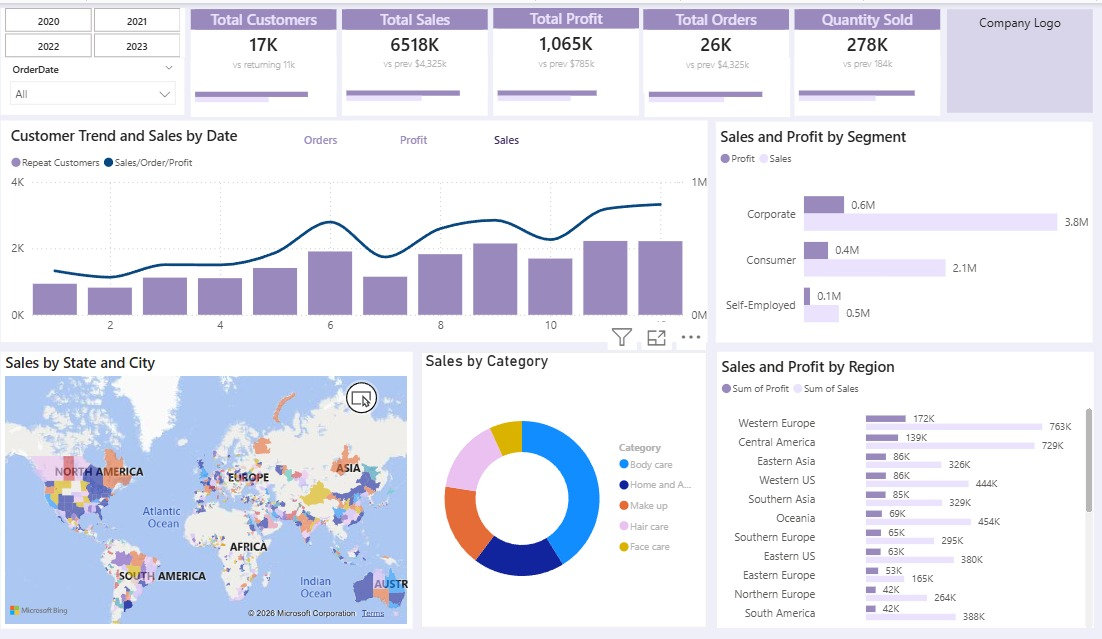

The dashboard page shown, as its layout file describes it:
{"tool":"powerbi","page":{"name":"Customer Mark Analysis","canvas":[1280,720],"ordinal":1},"visuals":[{"type":"lineStackedColumnComboChart","fields":{"Y2":["Measure.Line_Chart_Measures"],"Y":["Trends.Repeat Customers"],"Category":["Date Dim.OrderMonth"]},"box":[69.3,129.5,776.1,243.2],"z":0},{"type":"card","title":"Total Customers","fields":{"Values":["Trends.Total Customers"]},"box":[278.4,6.8,160.2,92],"z":1000},{"type":"advancedSlicerVisual","fields":{"Values":["Date Dim.OrderYear"]},"box":[69.3,5.7,202.3,54.5],"z":2000},{"type":"slicer","fields":{"Values":["Date Dim.OrderDate"]},"box":[69.7,59.9,201.8,62.4],"z":3000},{"type":"clusteredBarChart","fields":{"Y":["Trends.Total Customers","Trends.Repeat Customers"]},"box":[278.4,60.2,160.2,64.8],"z":4000},{"type":"card","title":"Total Orders","fields":{"Values":["Measure.Total Order"]},"box":[775.7,7,160,92],"z":5000},{"type":"clusteredBarChart","fields":{"Y":["Measure.Total Sales","Measure.Total Sales LY"]},"box":[776.1,60.2,160.2,64.8],"z":6000},{"type":"card","title":"Quantity Sold","fields":{"Values":["Measure.Quantity Sold"]},"box":[941.1,7,160,92],"z":7000},{"type":"clusteredBarChart","fields":{"Y":["Measure.Quantity Sold","Measure.Quantity Sold LY"]},"box":[940.9,59.1,160.2,64.8],"z":8000},{"type":"filledMap","title":"Sales by State and City","fields":{"Category":["Geography Dim.State","Geography Dim.City"],"Series":["Sales Fact.Sales"]},"box":[69.3,383,451.1,303.4],"z":9000},{"type":"donutChart","title":"Sales by Category","fields":{"Category":["Product Dim.Category"],"Y":["Sum(Sales Fact.Sales)"]},"box":[530.7,383,314.8,303.4],"z":10000},{"type":"clusteredBarChart","title":"Sales and Profit by Segment","fields":{"Category":["Customer Dim.Segment"],"Y":["Sum(Sales Fact.Profit)","Sum(Sales Fact.Sales)"]},"box":[855.2,130.9,413.6,242],"z":11000},{"type":"clusteredBarChart","title":"Sales and Profit by Region","fields":{"Category":["Geography Dim.Region"],"Y":["Sum(Sales Fact.Profit)","Sum(Sales Fact.Sales)"]},"box":[855.7,383,413.6,303.4],"z":12000},{"type":"advancedSlicerVisual","fields":{"Values":["Line_Selection_Table.Type"]},"box":[369.3,130.7,309.1,34.1],"z":13000},{"type":"card","title":"Total Profit","fields":{"Values":["Sum(Sales Fact.Profit)"]},"box":[610.2,5.7,160.2,92],"z":14000},{"type":"clusteredBarChart","fields":{"Y":["Measure.Total Profit","Measure.Total Profit LY"]},"box":[610.2,59.1,160.2,64.8],"z":15000},{"type":"card","title":"Total Sales","fields":{"Values":["Sum(Sales Fact.Sales)"]},"box":[444.3,6.8,160.2,92],"z":16000},{"type":"clusteredBarChart","fields":{"Y":["Measure.Total Sales","Measure.Total Sales LY"]},"box":[444.3,59.1,160.2,64.8],"z":17000},{"type":"textbox","box":[1109.1,6.8,160.2,113.6],"z":18000}]}

Visuals, with their boxes in screenshot pixels (x1, y1, x2, y2), scaled from the page's 1280x720 canvas onto the 1102x639 screenshot:
lineStackedColumnComboChart - Measure.Line_Chart_Measures x Trends.Repeat Customers: 60:115:728:331
"Total Customers" card: 240:6:378:88
advancedSlicerVisual - Date Dim.OrderYear: 60:5:234:53
slicer - Date Dim.OrderDate: 60:53:234:109
clusteredBarChart - Trends.Total Customers x Trends.Repeat Customers: 240:53:378:111
"Total Orders" card: 668:6:806:88
clusteredBarChart - Measure.Total Sales x Measure.Total Sales LY: 668:53:806:111
"Quantity Sold" card: 810:6:948:88
clusteredBarChart - Measure.Quantity Sold x Measure.Quantity Sold LY: 810:52:948:110
"Sales by State and City" filledMap: 60:340:448:609
"Sales by Category" donutChart: 457:340:728:609
"Sales and Profit by Segment" clusteredBarChart: 736:116:1092:331
"Sales and Profit by Region" clusteredBarChart: 737:340:1093:609
advancedSlicerVisual - Line_Selection_Table.Type: 318:116:584:146
"Total Profit" card: 525:5:663:87
clusteredBarChart - Measure.Total Profit x Measure.Total Profit LY: 525:52:663:110
"Total Sales" card: 383:6:520:88
clusteredBarChart - Measure.Total Sales x Measure.Total Sales LY: 383:52:520:110
textbox: 955:6:1093:107
